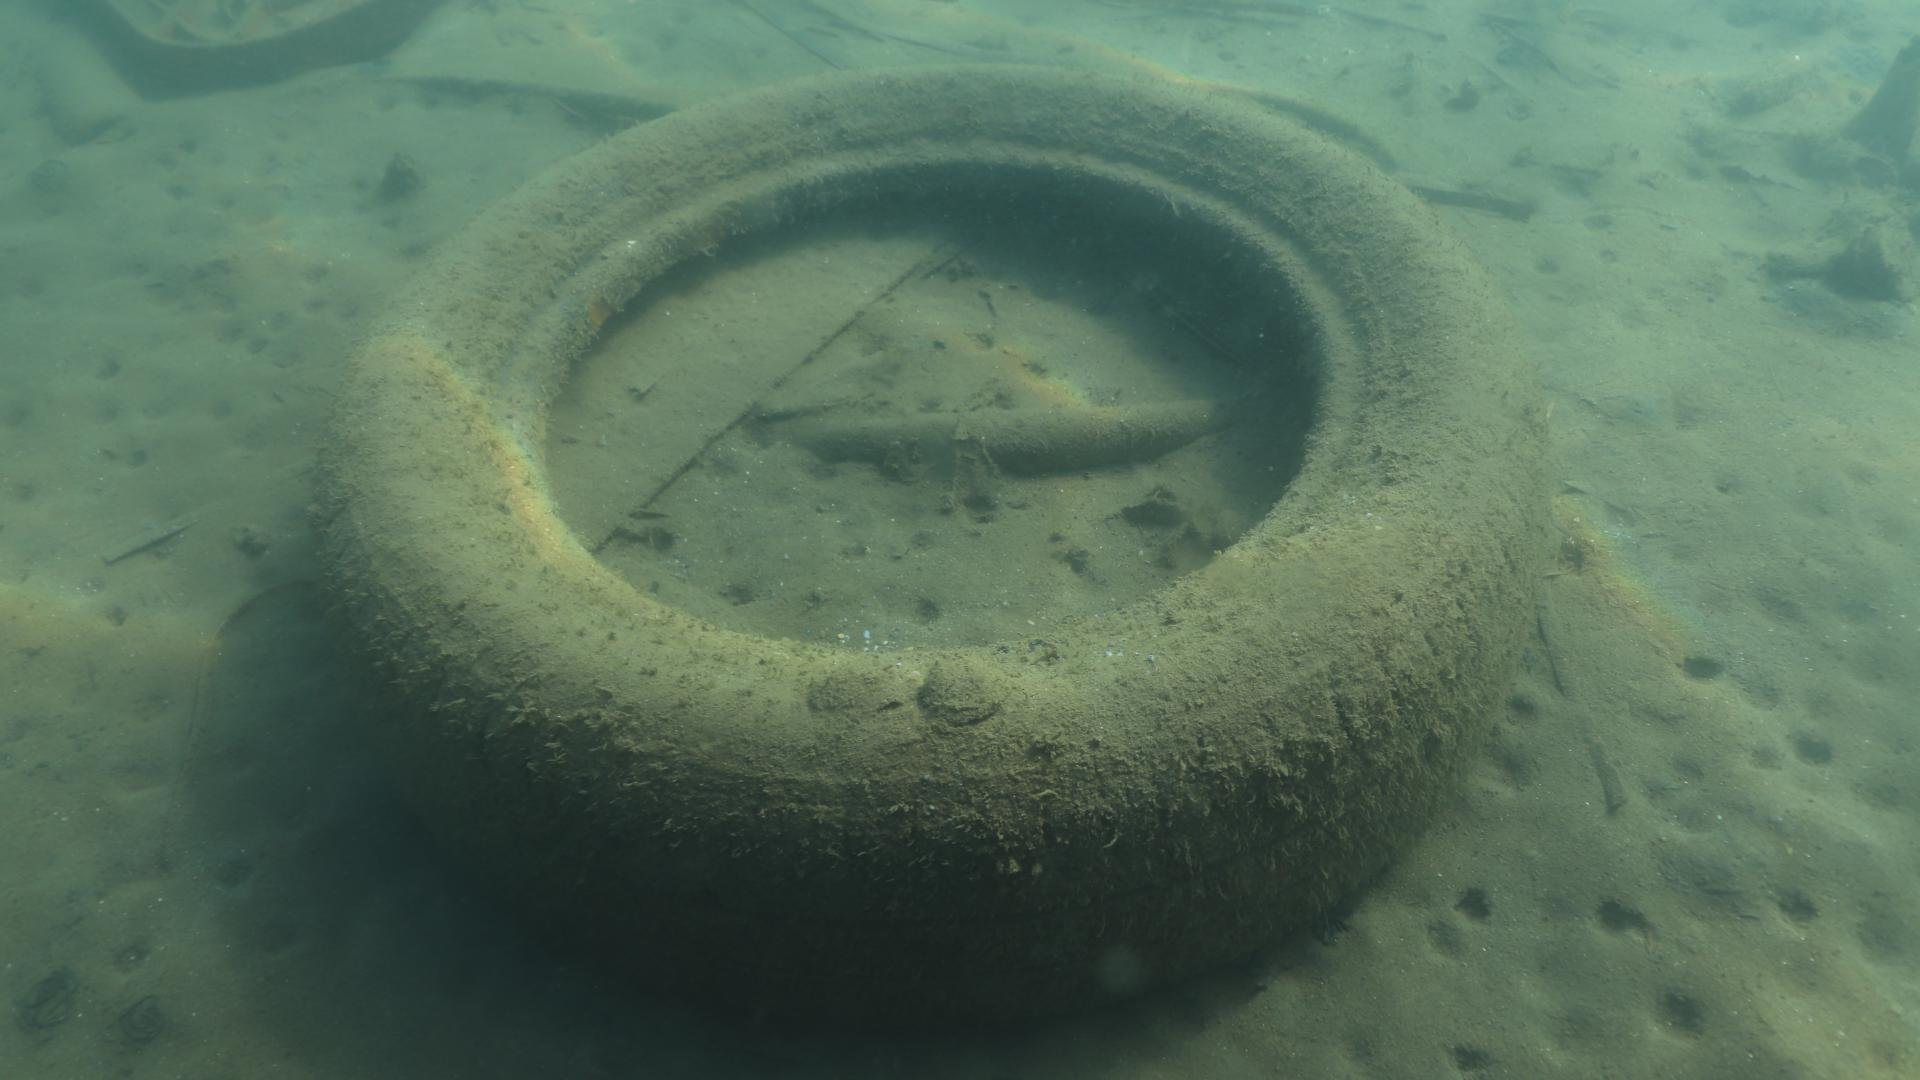tire: (315, 61, 1551, 1009)
